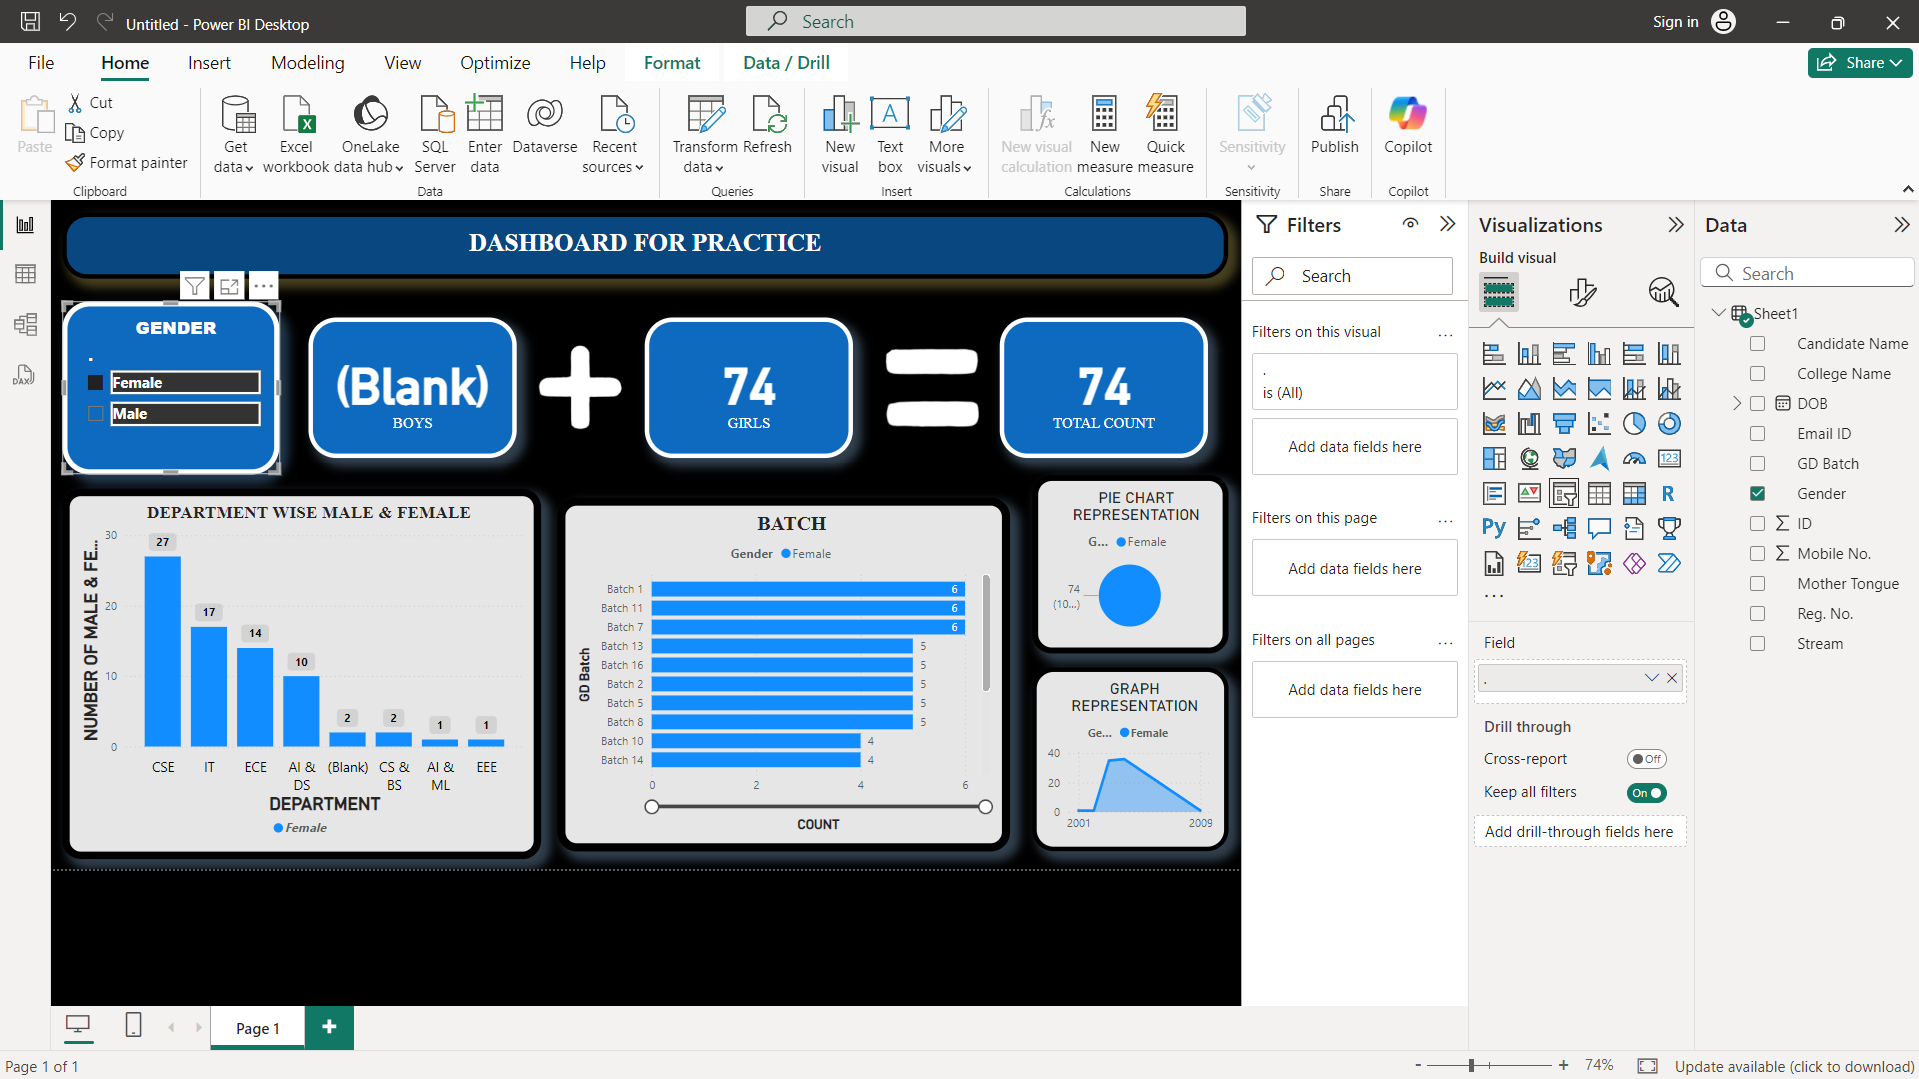

Layout of this report page (visuals, bound fields, positions):
{"tool":"powerbi","page":{"name":"Page 1","canvas":[1280,720],"ordinal":0},"visuals":[{"type":"textbox","box":[12.3,13.7,1254.2,71.4],"z":0},{"type":"card","fields":{"Values":["Sheet1.Candidate Name"]},"box":[277.2,126.2,223.7,150.9],"z":1000},{"type":"slicer","title":"GENDER","fields":{"Values":["Sheet1.Gender"]},"box":[12.3,108.4,233.3,186.6],"z":2000},{"type":"clusteredColumnChart","title":"DEPARTMENT WISE MALE & FEMALE","fields":{"Category":["Sheet1.Stream"],"Series":["Sheet1.Gender"],"Y":["Sheet1.ID"]},"box":[12.1,310.7,515.1,398.1],"z":3000},{"type":"card","fields":{"Values":["Sheet1.Candidate Name"]},"box":[639.5,126.2,223.7,150.9],"z":4000},{"type":"card","fields":{"Values":["Sheet1.Candidate Name"]},"box":[1020.9,126.2,223.7,150.9],"z":5000},{"type":"image","box":[500.9,142.7,138.6,118],"z":6000},{"type":"image","box":[832.9,102.9,233.3,197.6],"z":7000},{"type":"barChart","title":"BATCH","fields":{"Category":["Sheet1.GD Batch"],"Y":["Sheet1.ID"],"Series":["Sheet1.Gender"]},"box":[544.7,320.1,486.8,380.6],"z":8000},{"type":"pieChart","title":"PIE CHART REPRESENTATION","fields":{"Category":["Sheet1.Gender"],"Y":["Sheet1.Candidate Name"]},"box":[1055.7,295.9,211.1,192.3],"z":9000},{"type":"areaChart","title":"GRAPH REPRESENTATION","fields":{"Category":["Sheet1.DOB.Variation.Date Hierarchy.Year","Sheet1.DOB.Variation.Date Hierarchy.Quarter","Sheet1.DOB.Variation.Date Hierarchy.Month","Sheet1.DOB.Variation.Date Hierarchy.Day"],"Y":["Sheet1.Candidate Name"],"Series":["Sheet1.Gender"]},"box":[1055.7,503,211.1,197.7],"z":9001}]}

Visuals, with their boxes on the page's 1280x720 design canvas (x1, y1, x2, y2). These are canvas units, not pixel positions in the 1919x1079 screenshot, which may show the page scaled, cropped or inside an application window:
textbox: {"left": 12, "top": 14, "right": 1266, "bottom": 85}
card - Sheet1.Candidate Name: {"left": 277, "top": 126, "right": 501, "bottom": 277}
"GENDER" slicer: {"left": 12, "top": 108, "right": 246, "bottom": 295}
"DEPARTMENT WISE MALE & FEMALE" clusteredColumnChart: {"left": 12, "top": 311, "right": 527, "bottom": 709}
card - Sheet1.Candidate Name: {"left": 640, "top": 126, "right": 863, "bottom": 277}
card - Sheet1.Candidate Name: {"left": 1021, "top": 126, "right": 1245, "bottom": 277}
image: {"left": 501, "top": 143, "right": 640, "bottom": 261}
image: {"left": 833, "top": 103, "right": 1066, "bottom": 300}
"BATCH" barChart: {"left": 545, "top": 320, "right": 1032, "bottom": 701}
"PIE CHART REPRESENTATION" pieChart: {"left": 1056, "top": 296, "right": 1267, "bottom": 488}
"GRAPH REPRESENTATION" areaChart: {"left": 1056, "top": 503, "right": 1267, "bottom": 701}
